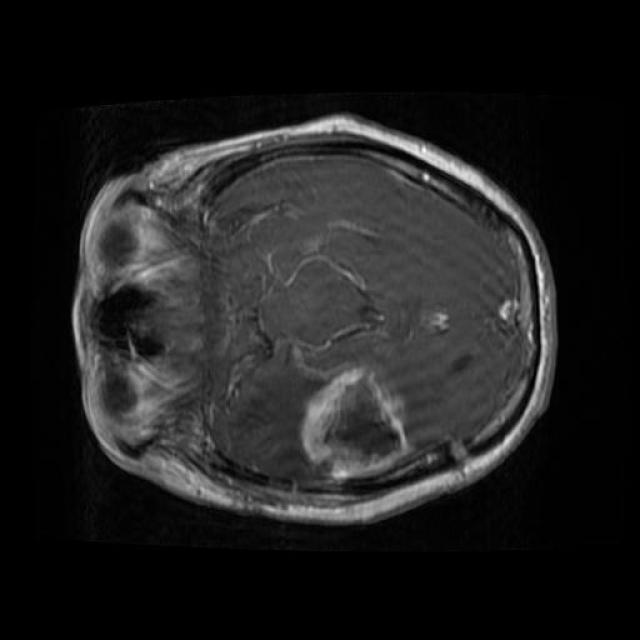Glioma: (301, 368, 407, 476)
